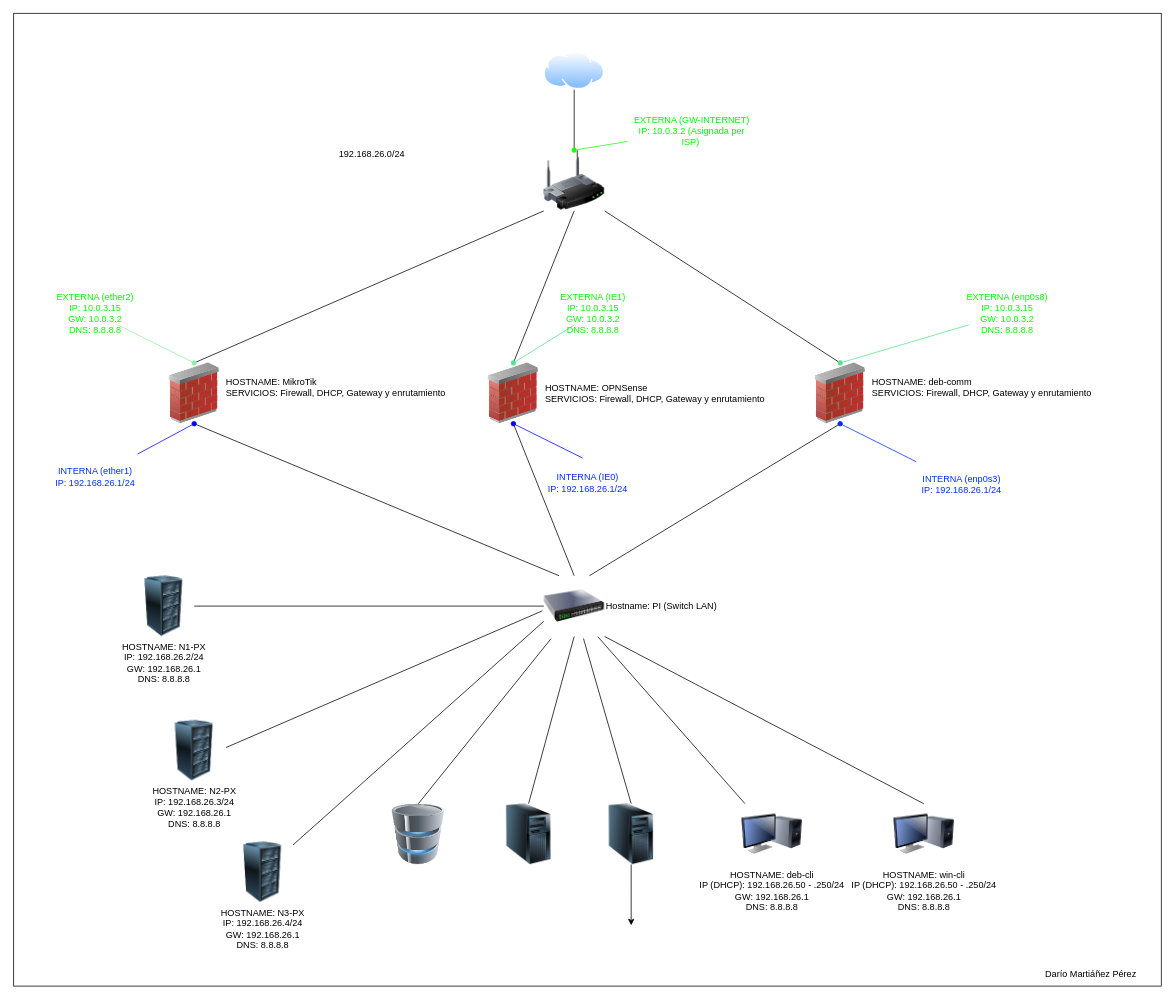
Some shapes in this 1174 by 999 pixel diagram are drawn without their labels. The shapes that lost their labels are listed below. From the top down, each one's centre as x and y in pixels, then its label:
(573,70): Internet
(418,833): HOSTNAME: store-srvv IP: 192.168.26.5/24 GW: 192.168.26.1 DNS: 8.8.8.8
(528,833): HOSTNAME: win-srvv IP: 192.168.26.6/24 GW: 192.168.26.1 DNS: 8.8.8.8
(630,833): HOSTNAME: srv-monn IP: 192.168.26.7/24 GW: 192.168.26.1 DNS: 8.8.8.8
